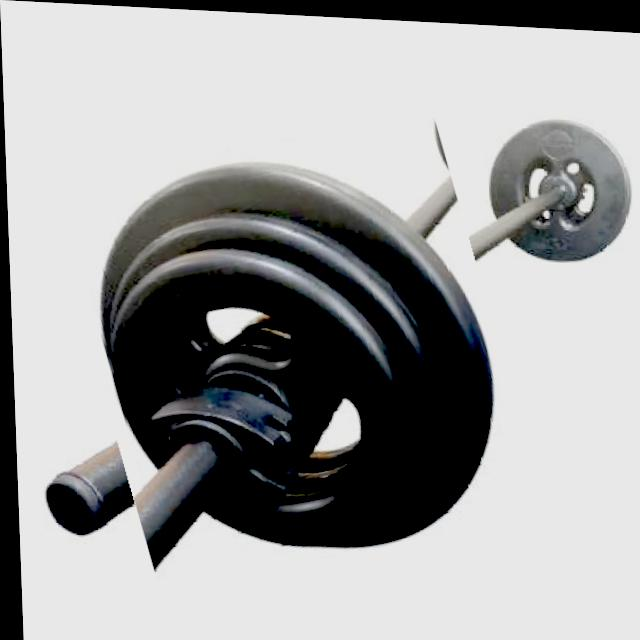barbell: (68, 119, 528, 604)
